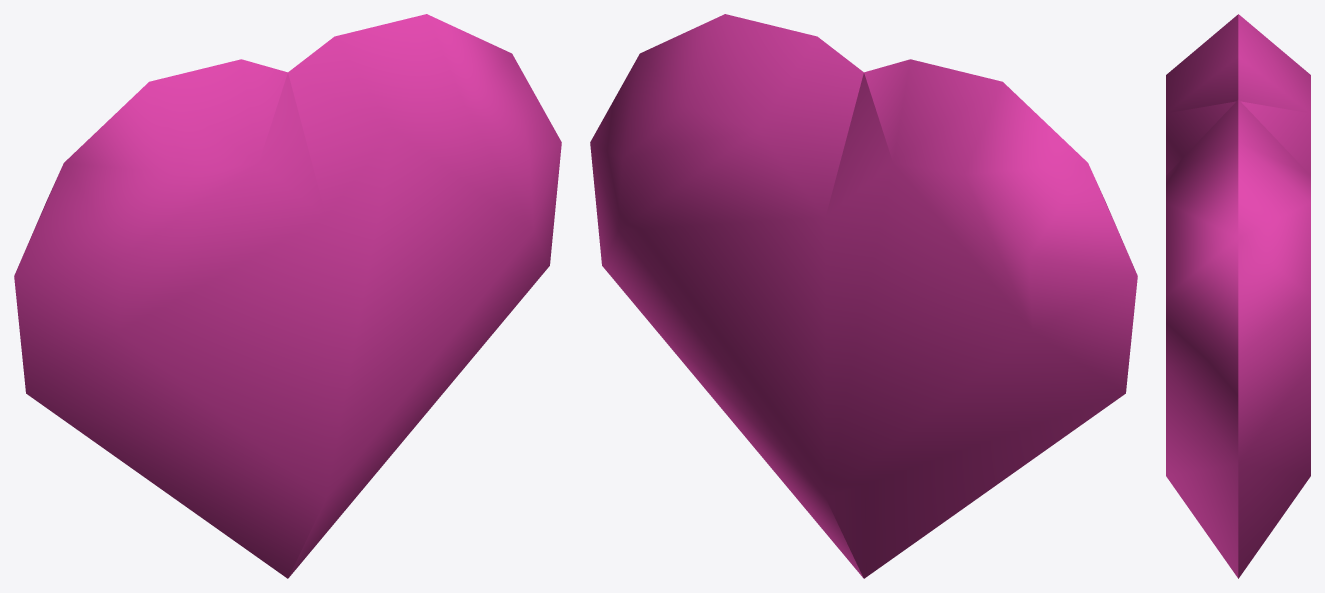
3 views of the same model, side by side, from view 1: azimuth 30°, elevation 25°; view 2: azimuth 150°, elevation 25°; view 3: azimuth 270°, elevation 25° (orthographic). The views are drawn at different scales.
Bounding box in the file's own units: 2.89 × 2.67 × 0.7.
